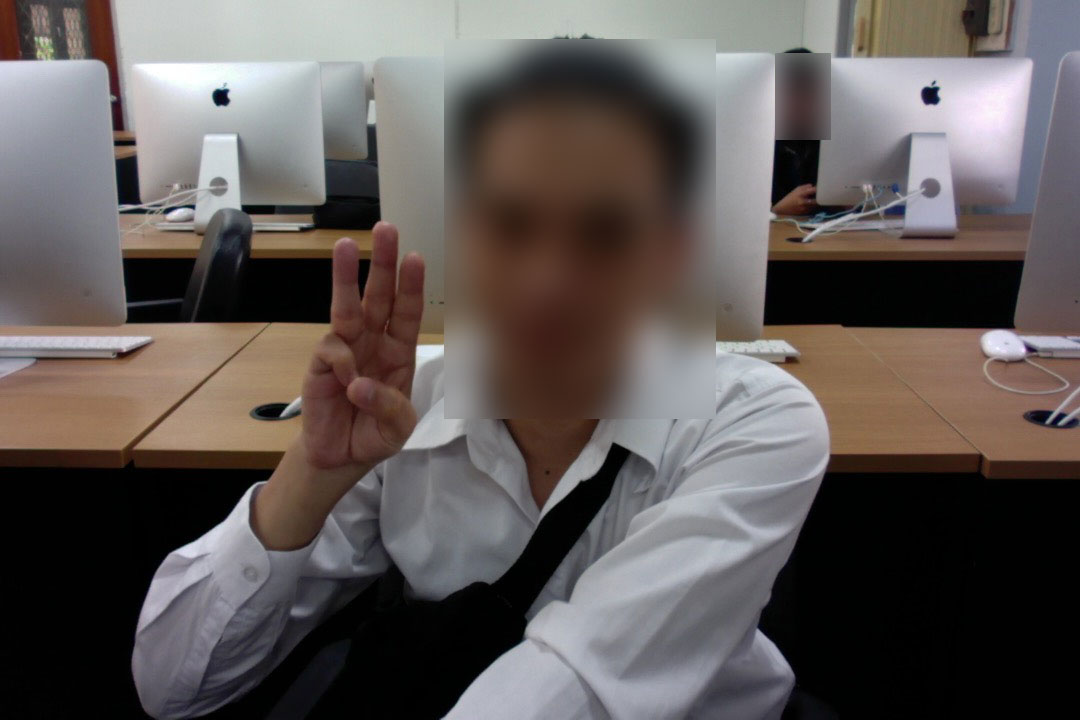wor: (284, 210, 437, 481)
